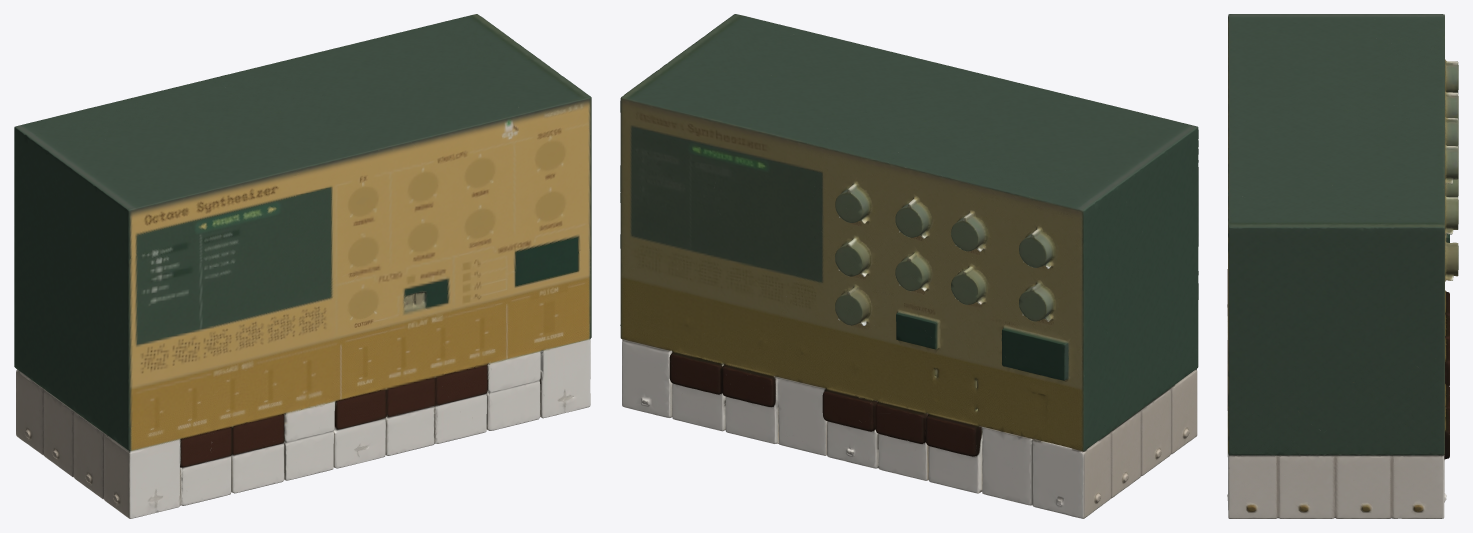
Rendered from octave-synth.glb.
3 renders of one model, left to right at view 1: azimuth 30°, elevation 25°; view 2: azimuth 150°, elevation 25°; view 3: azimuth 270°, elevation 25°, orthographic. The views are drawn at different scales.
Size of the model in its own units: 1.9 by 1.21 by 0.8632.
1 material, 1 textured.
